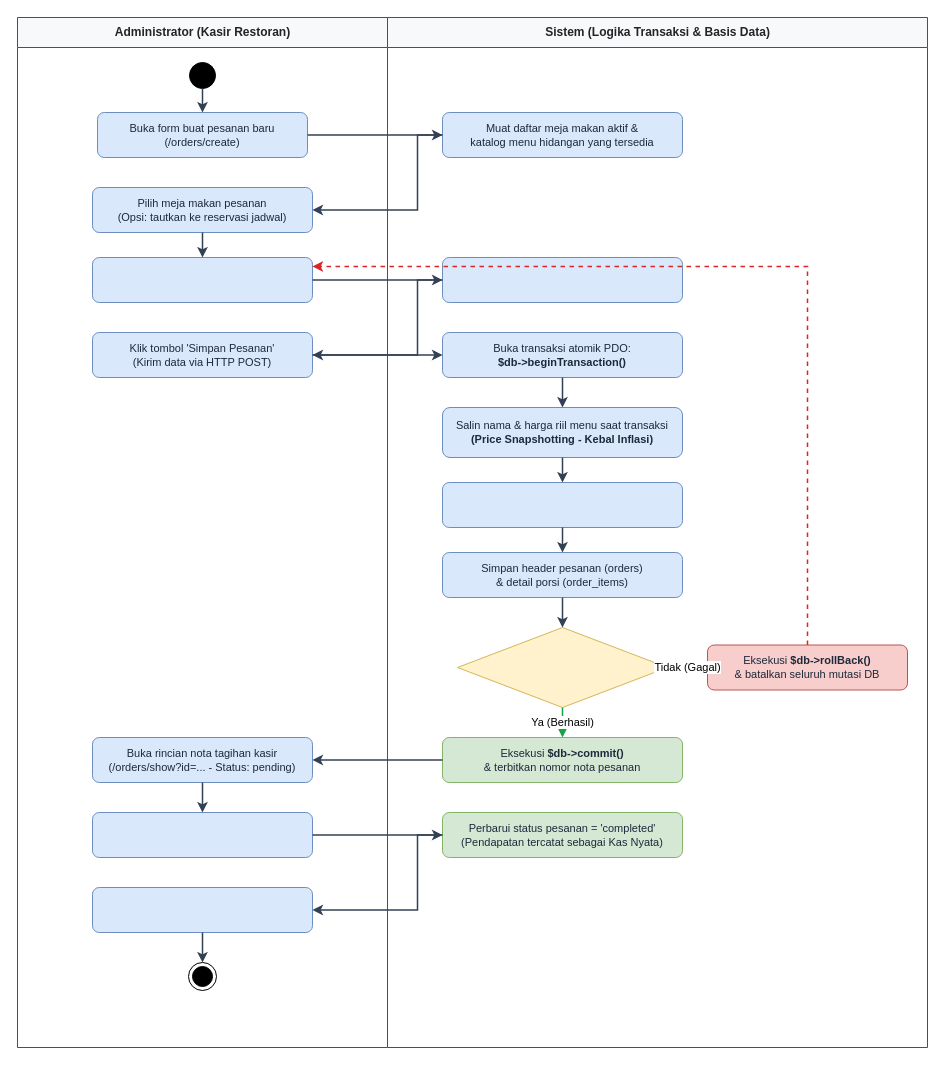
Some shapes in this 945 by 1065 pixel diagram are drawn without their labels. Each missing label, with the centre of its shape:
Cetak struk pelunasan resmi & berikan nota kepada tamu: [202,909]
Hitung subtotal & total moneter di server via StandardOrderCalculator (DECIMAL): [562,505]
Kalkulasi estimasi subtotal & grand total dinamis pada antarmuka: [562,279]
Penyimpanan tabel berhasil tanpa error?: [562,667]
Pilih item menu hidangan & tentukan kuantitas porsi (Qty ≥ 1): [202,279]
Terima pembayaran tamu & klik 'Pelunasan Pesanan': [202,835]
